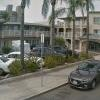Car: (62, 53, 100, 96)
